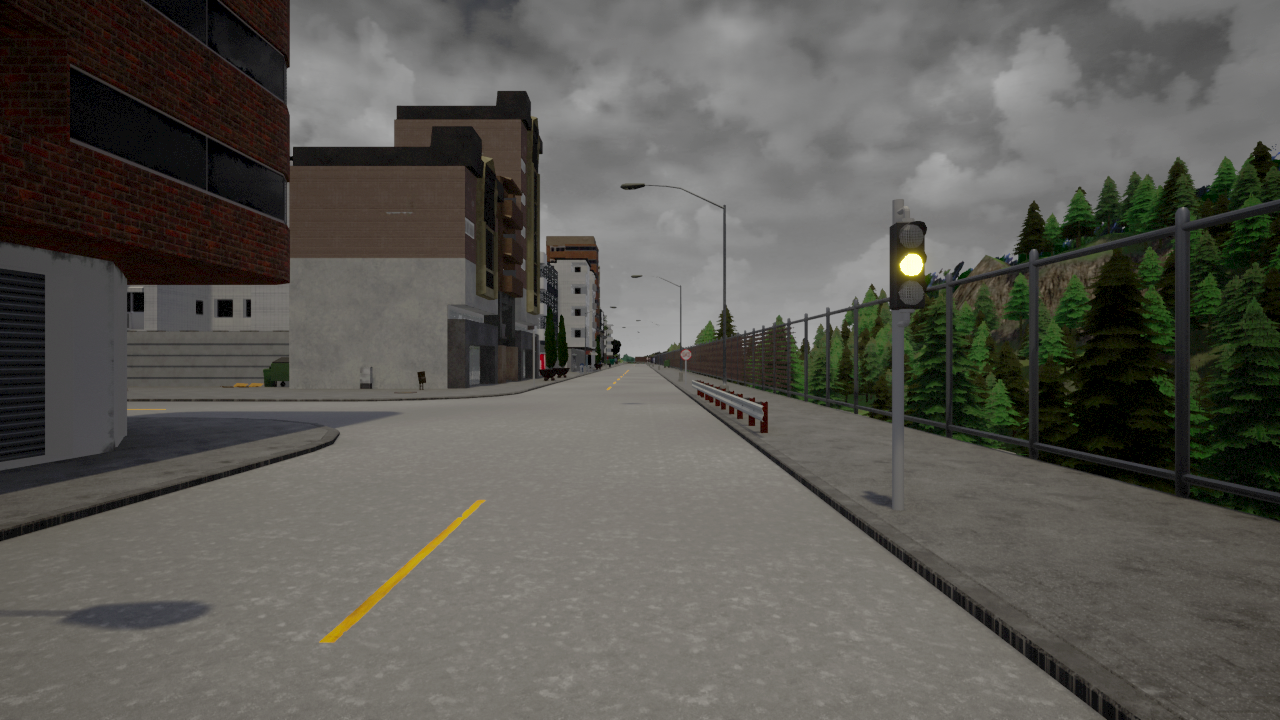yellow: (886, 216, 925, 310)
